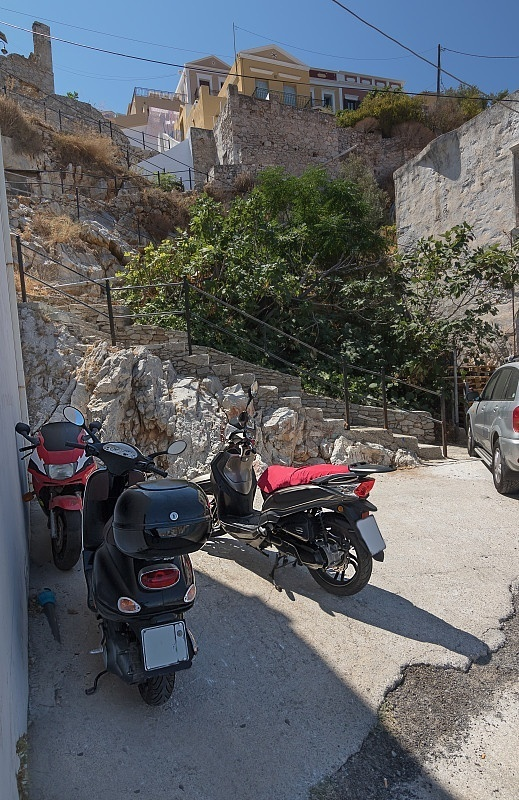non-vehicle: (66, 428, 219, 711), (188, 430, 399, 593), (14, 414, 100, 550)
